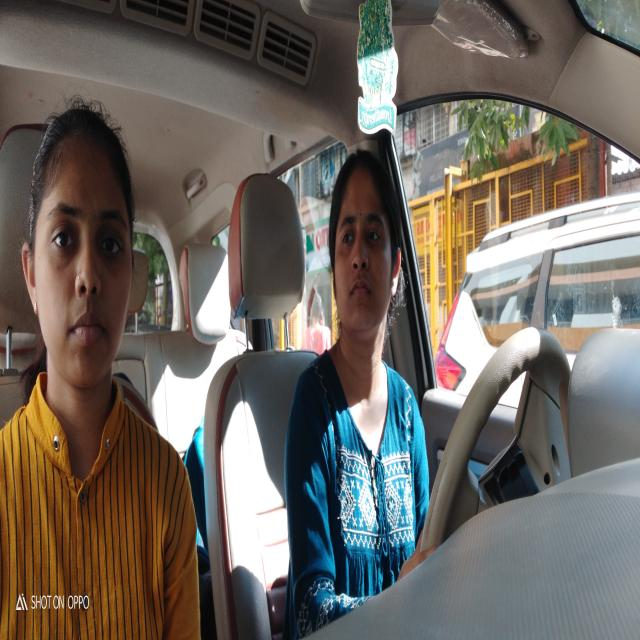LeftRight: (308, 130, 414, 404)
person: (19, 84, 159, 468)
